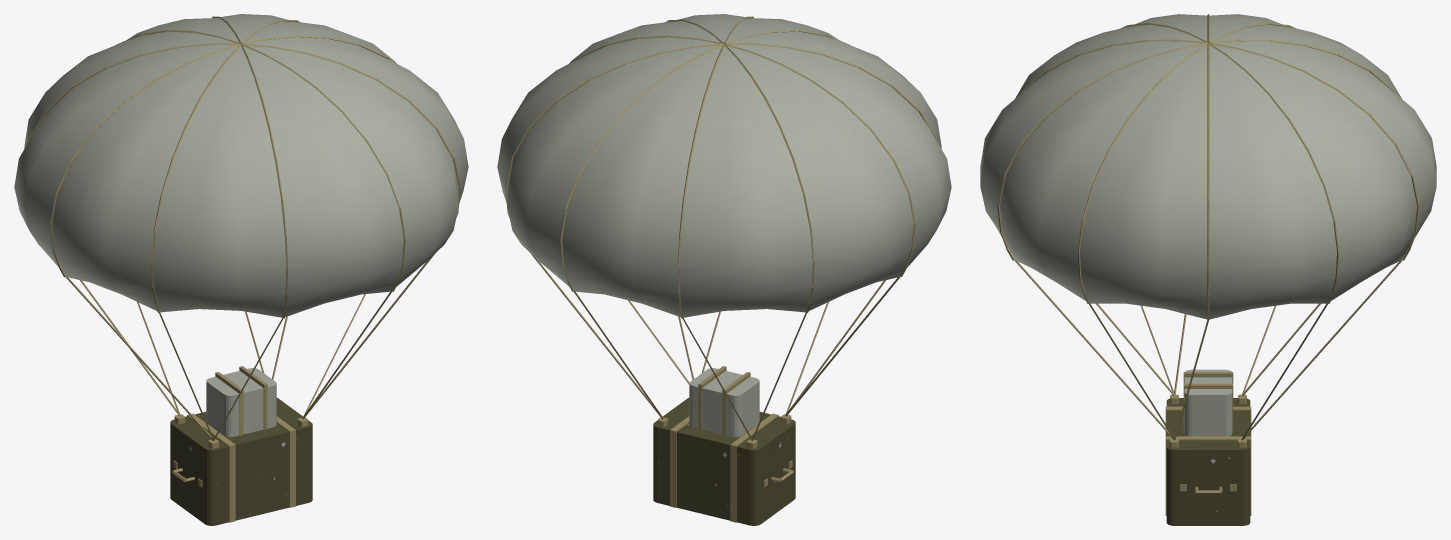
The model's file is paratrooper-supply-bundle.glb.
3 views of the same model, side by side, from view 1: azimuth 30°, elevation 25°; view 2: azimuth 150°, elevation 25°; view 3: azimuth 270°, elevation 25° (orthographic).
Visible parts, largest first — view 1: CanopyOpen, Bundle, CanopyRibs, CanopyClosed, SuspensionLines, Lashings; view 2: CanopyOpen, Bundle, CanopyRibs, CanopyClosed, SuspensionLines, Lashings; view 3: CanopyOpen, Bundle, CanopyRibs, SuspensionLines, CanopyClosed, Lashings.
Part boxes in pixels (x1,y1,x2,y2): CanopyOpen: [14, 14, 468, 317]; Bundle: [170, 397, 312, 525]; CanopyRibs: [27, 16, 460, 318]; CanopyClosed: [206, 368, 276, 437]; SuspensionLines: [65, 254, 434, 448]; Lashings: [172, 366, 295, 522]; CanopyOpen: [497, 14, 951, 317]; Bundle: [653, 397, 795, 525]; CanopyRibs: [505, 16, 938, 318]; CanopyClosed: [689, 368, 759, 437]; SuspensionLines: [531, 254, 900, 448]; Lashings: [670, 366, 793, 522]; CanopyOpen: [980, 14, 1436, 319]; Bundle: [1166, 398, 1250, 525]; CanopyRibs: [997, 14, 1419, 320]; SuspensionLines: [1014, 260, 1402, 447]; CanopyClosed: [1184, 369, 1232, 436]; Lashings: [1165, 372, 1251, 515].
Size of the model in its own units: 4.5 by 5.06 by 4.58.
1 material, 1 textured.
